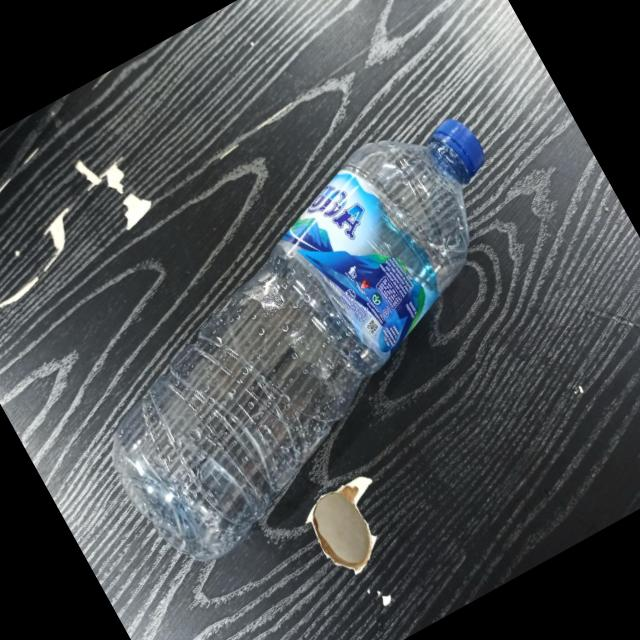BotolPlastik: (33, 92, 596, 583)
